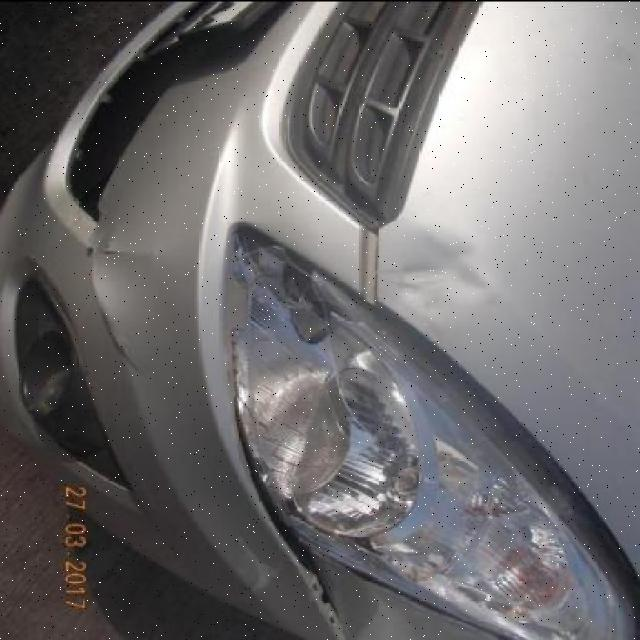damage: (216, 228, 431, 550), (220, 421, 418, 640), (72, 200, 181, 379), (380, 226, 504, 315)
